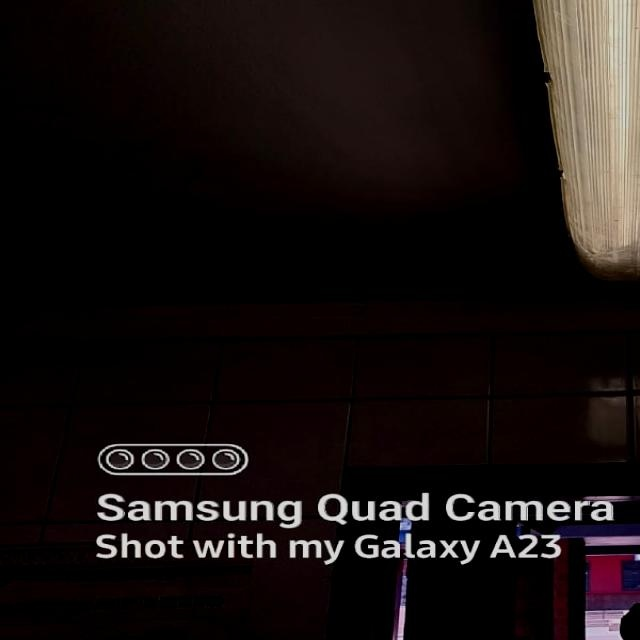fluorescent tube: (437, 0, 640, 340)
